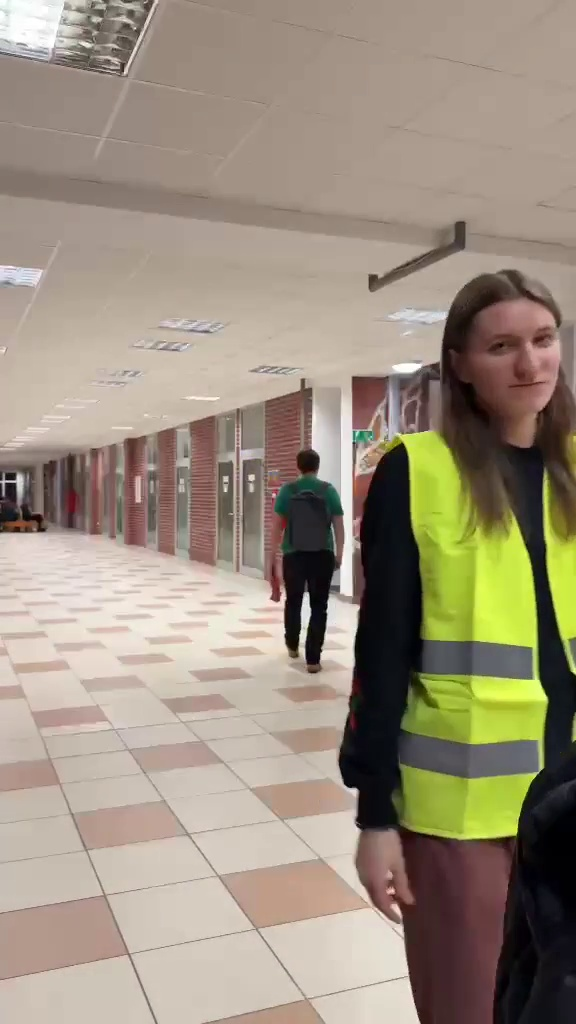no vest: (264, 449, 346, 650)
vest: (356, 269, 576, 999)
